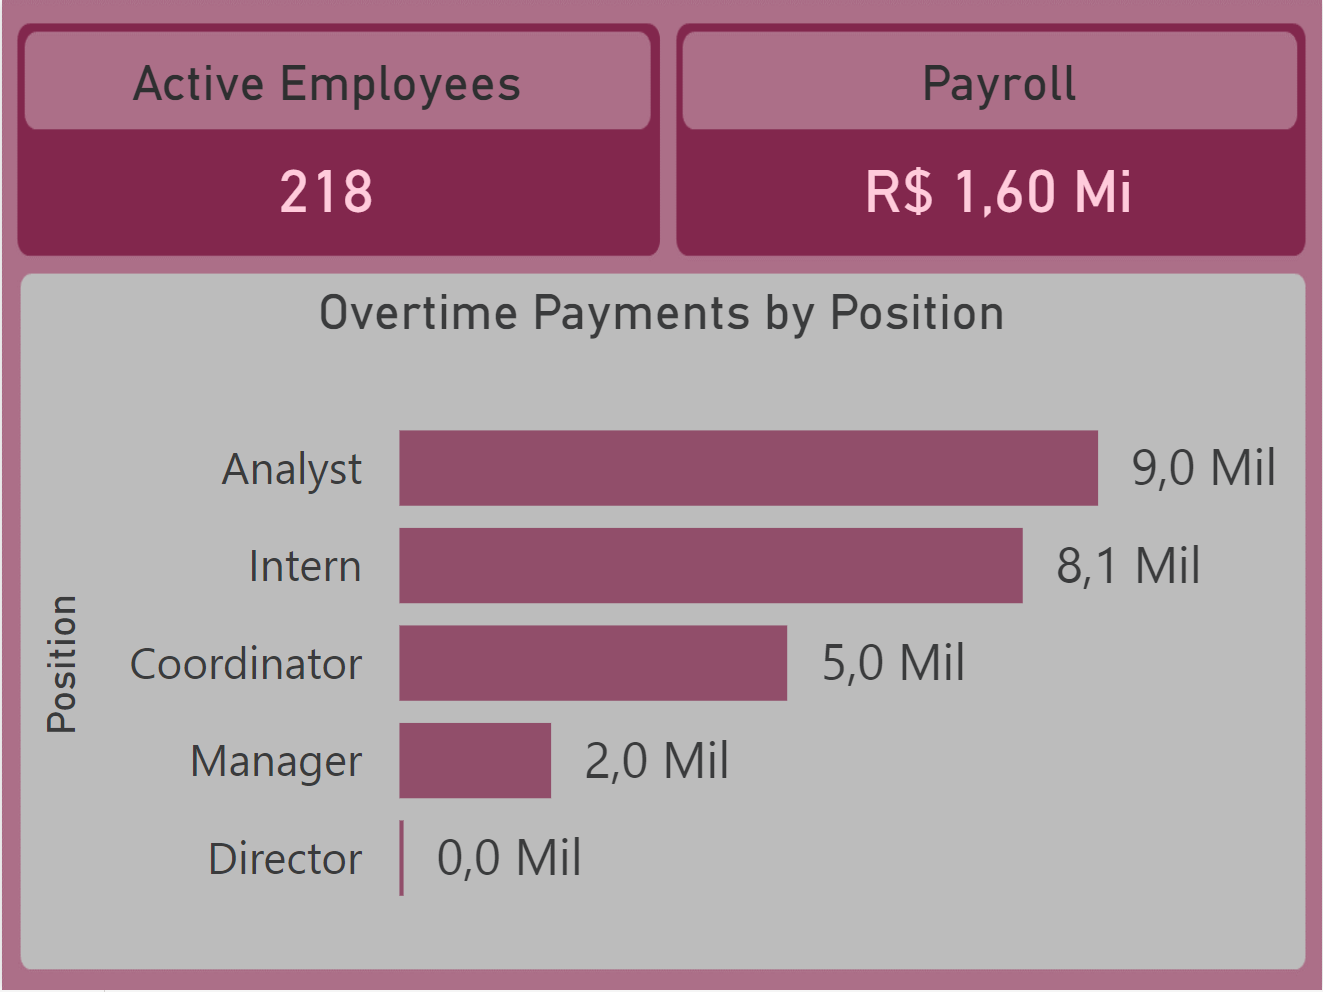

What the dashboard file says about the page in this screenshot:
{"tool":"powerbi","page":{"name":"Tooltip-People","canvas":[320,240],"ordinal":3},"visuals":[{"type":"card","title":"Active Employees","fields":{"Values":["dash-measures.Active Employees"]},"box":[25.9,13.1,105.9,55.6],"z":0},{"type":"card","title":"Payroll","fields":{"Values":["Sum(public_funcionarios.salario)"]},"box":[190.6,13.1,102.3,55.3],"z":1000},{"type":"barChart","title":"Overtime Payments by Position","fields":{"Category":["public_funcionarios.cargo_english"],"Y":["Sum(public_funcionarios.horas_extras)"]},"box":[5.2,68.5,309.7,164],"z":2000}]}

Visuals, with their boxes in screenshot pixels (x1, y1, x2, y2), scaled from the page's 320x240 canvas onto the 1323x992 screenshot:
"Active Employees" card: crop(107, 54, 545, 284)
"Payroll" card: crop(788, 54, 1211, 283)
"Overtime Payments by Position" barChart: crop(21, 283, 1302, 961)
